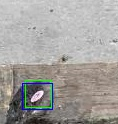text: (25, 80, 51, 107)
